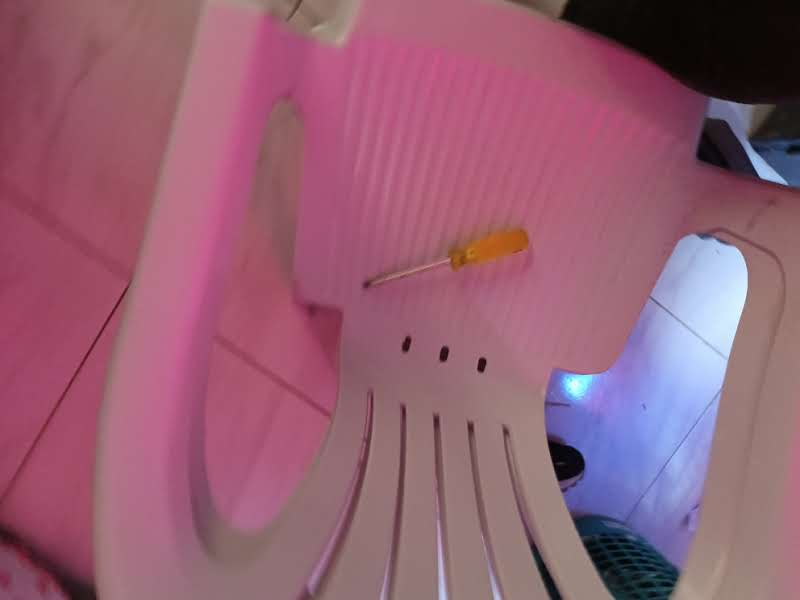Destornillador: (363, 229, 527, 288)
